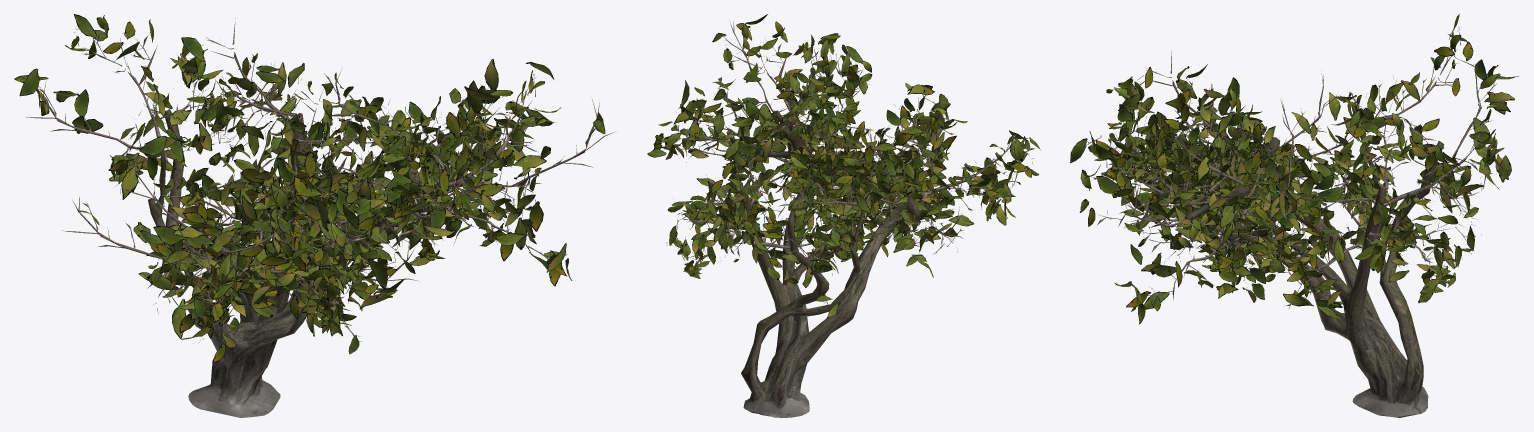
3 views of the same model, side by side, from view 1: azimuth 30°, elevation 25°; view 2: azimuth 150°, elevation 25°; view 3: azimuth 270°, elevation 25° (orthographic). The views are drawn at different scales.
Parts seen in each view (by area): view 1: island_tree_02_LOD0.002, island_tree_02_LOD0, island_tree_02_LOD0.001; view 2: island_tree_02_LOD0.002, island_tree_02_LOD0.001, island_tree_02_LOD0; view 3: island_tree_02_LOD0.002, island_tree_02_LOD0.001, island_tree_02_LOD0.
Boxes of the visible parts, box(x1,y1,x2,y2) form: island_tree_02_LOD0.002: box(14, 14, 605, 362); island_tree_02_LOD0: box(26, 18, 614, 342); island_tree_02_LOD0.001: box(148, 109, 484, 417); island_tree_02_LOD0.002: box(647, 14, 1040, 317); island_tree_02_LOD0.001: box(727, 110, 927, 417); island_tree_02_LOD0: box(662, 21, 1033, 308); island_tree_02_LOD0.002: box(1070, 14, 1518, 324); island_tree_02_LOD0.001: box(1149, 102, 1444, 417); island_tree_02_LOD0: box(1086, 27, 1502, 312).
Bounding box in the file's own units: 4.04 × 3.41 × 4.15.
3 materials, 3 textured.
